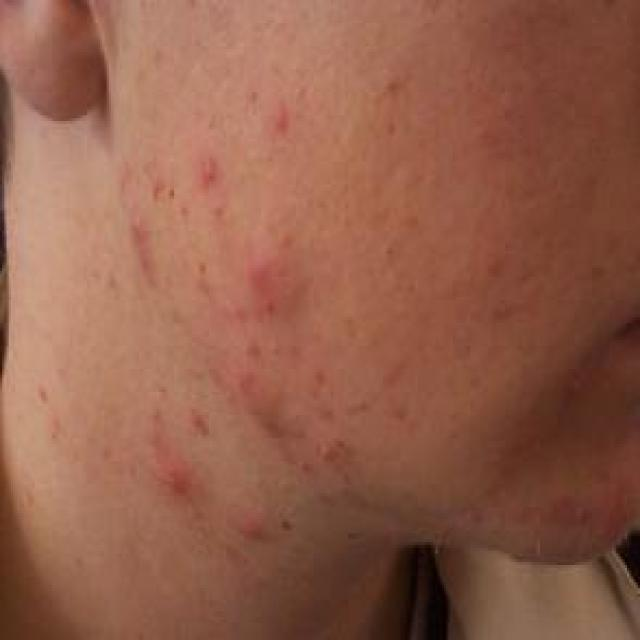Acne: (154, 454, 201, 500), (128, 211, 156, 283), (229, 506, 271, 544), (248, 248, 278, 295), (194, 146, 222, 190), (316, 432, 348, 468), (233, 364, 263, 400), (269, 95, 294, 138)
